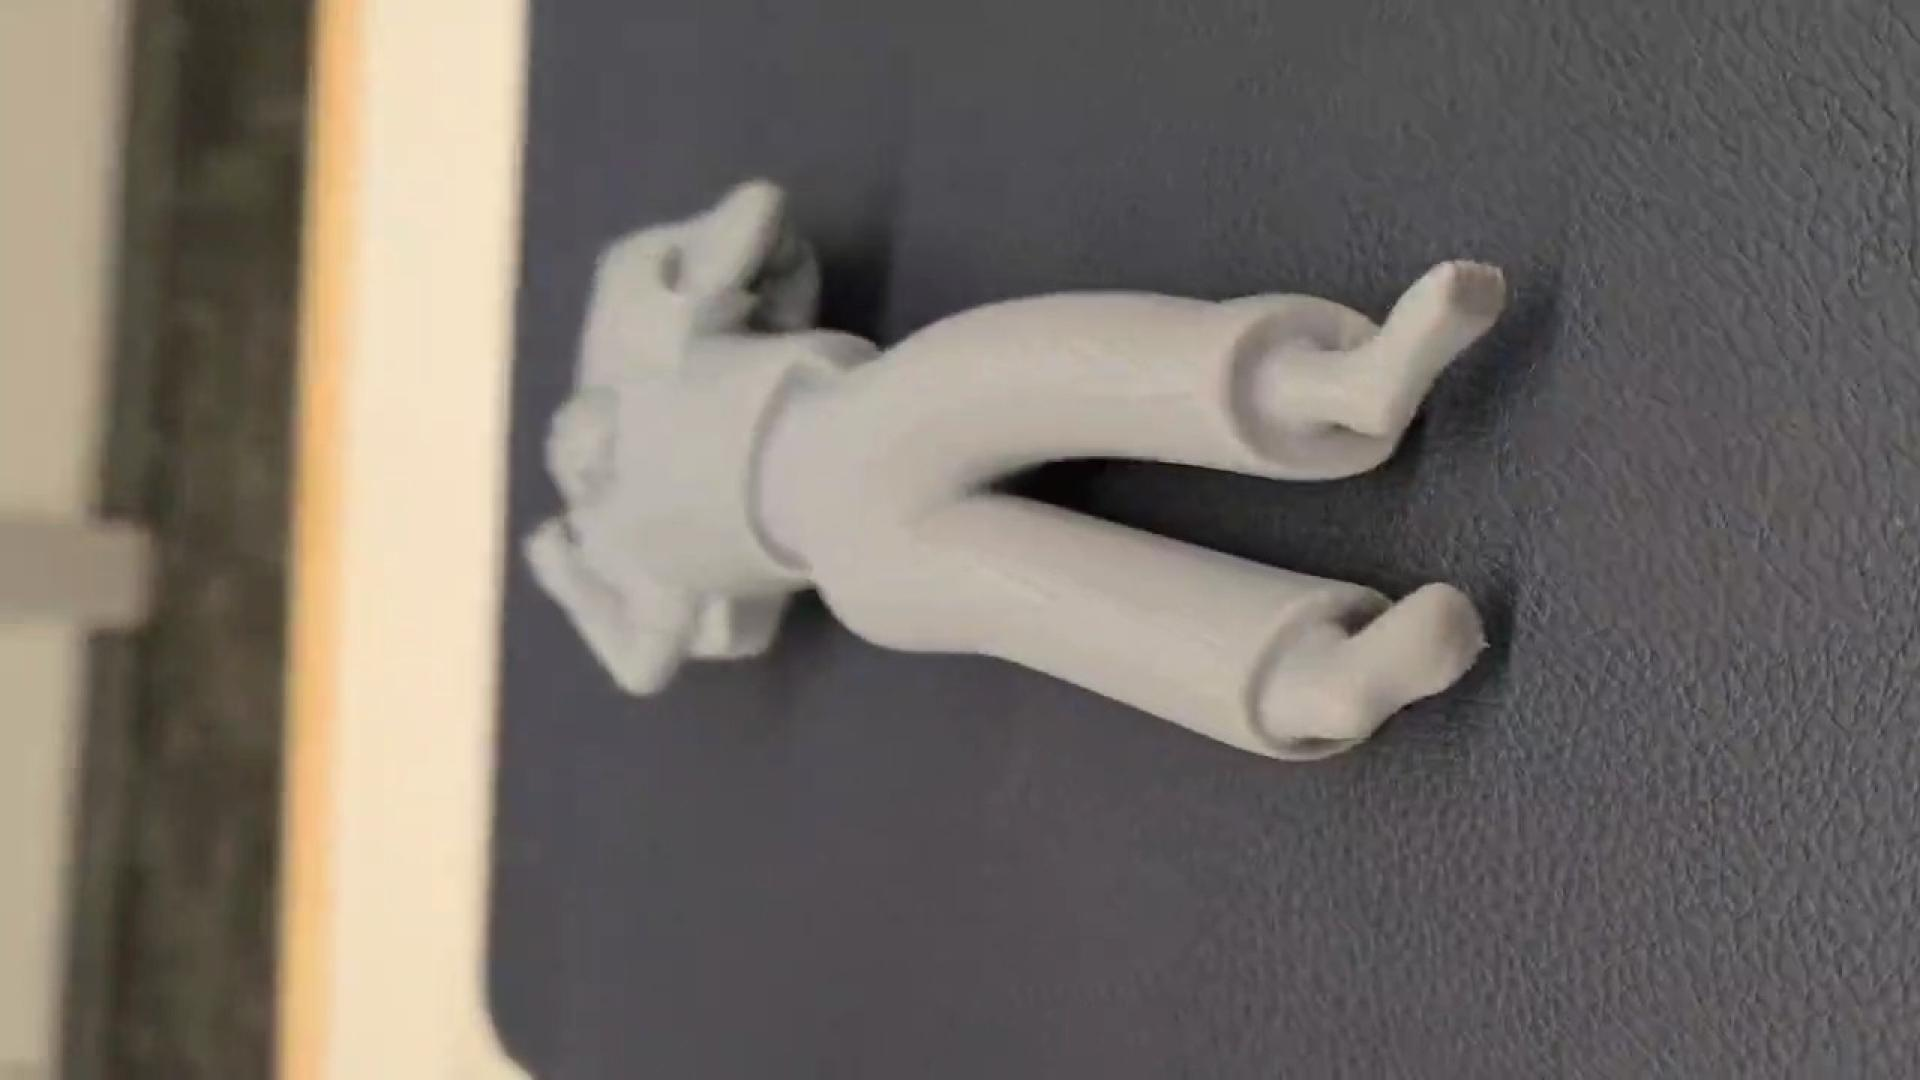Bad-style: (512, 161, 1522, 795)
